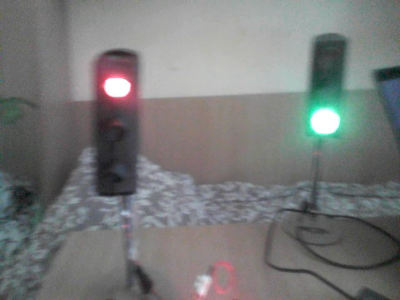trafficlight_green: (307, 37, 342, 135)
trafficlight_red: (97, 53, 137, 192)
